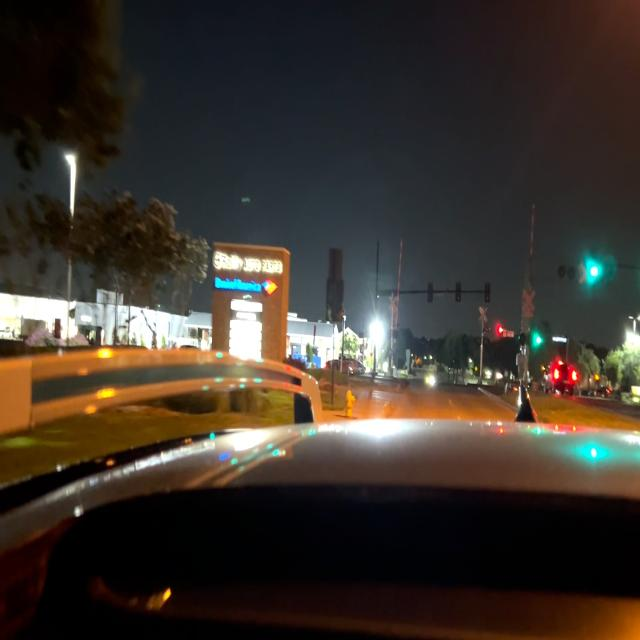back-of-sign: (327, 245, 345, 323)
